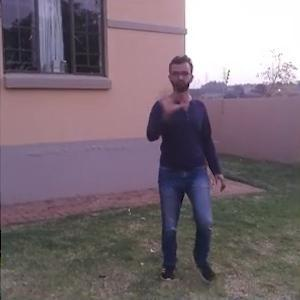follow_hand: (155, 82, 184, 115)
